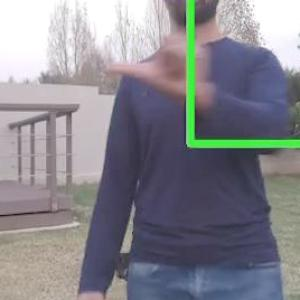land_hand: (103, 0, 222, 107)
